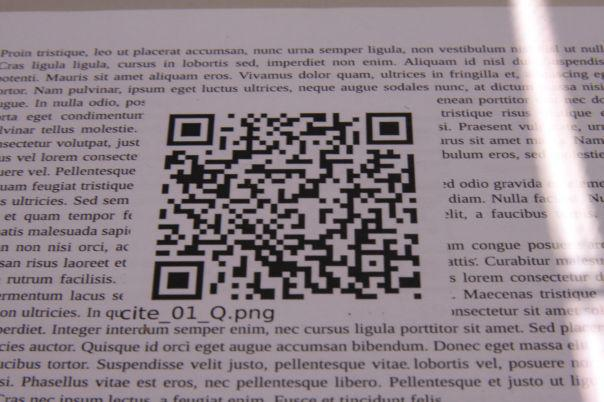Finder pattern: (148, 259, 209, 304), (164, 112, 216, 149), (363, 111, 417, 146)
